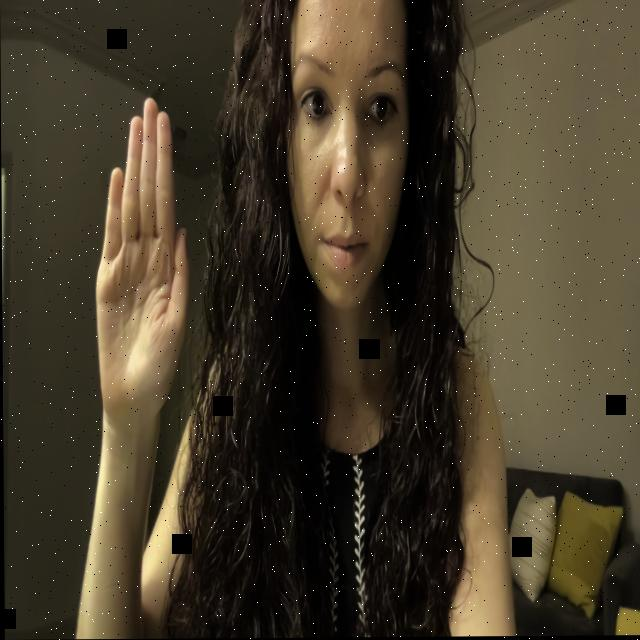Paper: (92, 87, 194, 430)
